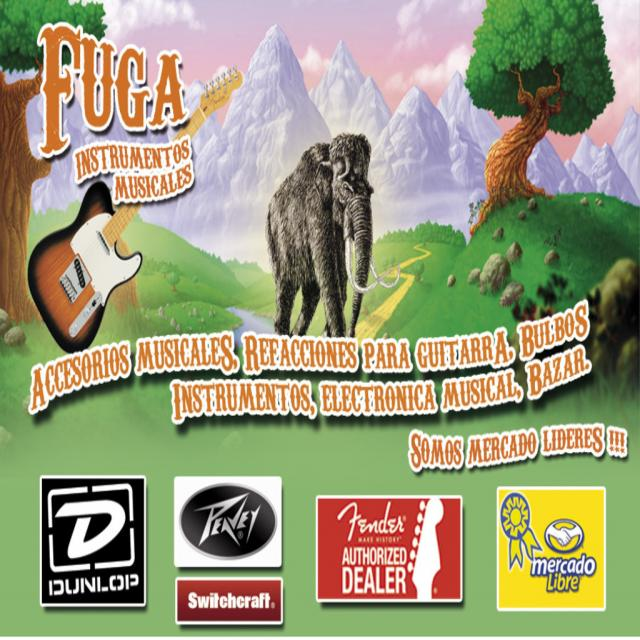elephant: (261, 121, 377, 333)
